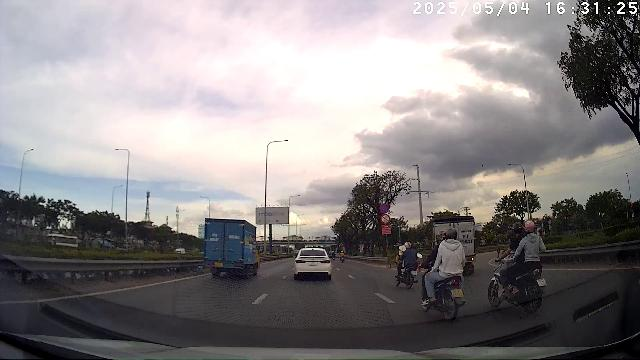130-cam-dung-va-do-xe: (379, 203, 389, 214)
